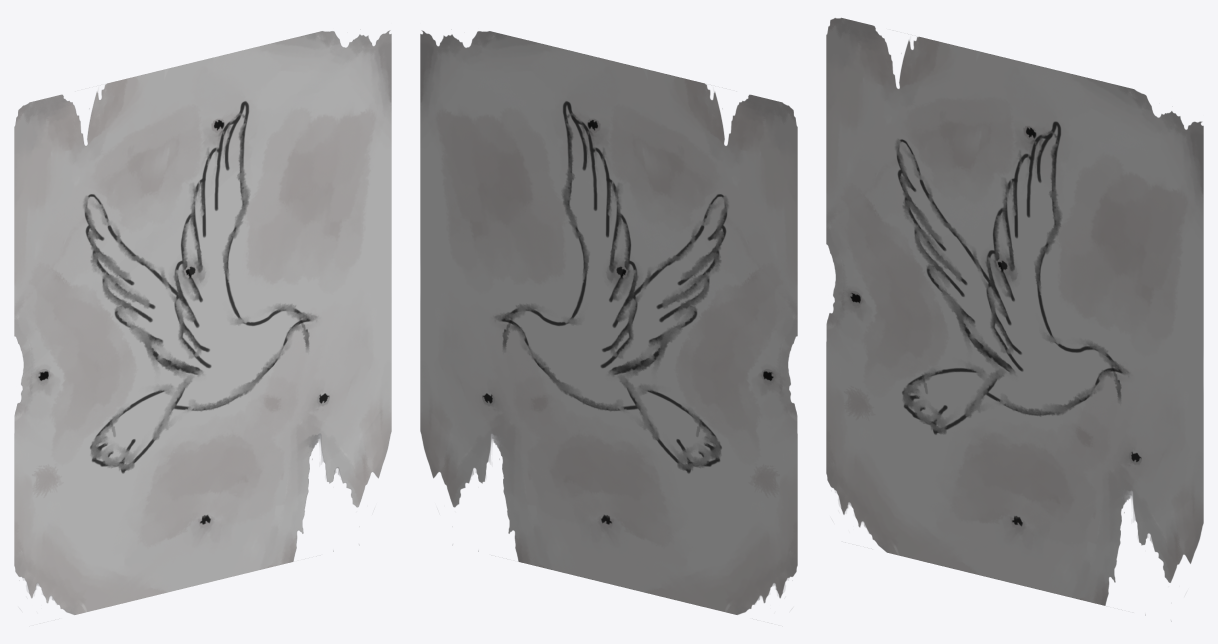
Rendered from dove_poster.glb.
The picture shows the model from 3 angles, left to right: view 1: azimuth 30°, elevation 25°; view 2: azimuth 150°, elevation 25°; view 3: azimuth 330°, elevation 25°; orthographic projection.
Parts seen in each view (by area): view 1: pPlane1; view 2: pPlane1; view 3: pPlane1.
Part boxes in pixels (left/top/right/bottom): pPlane1: left=14, top=30, right=391, bottom=614; pPlane1: left=420, top=30, right=797, bottom=614; pPlane1: left=826, top=17, right=1203, bottom=615.
Size of the model in its own units: 46 by 61 by 1.53e-05.
1 material, 1 textured.
